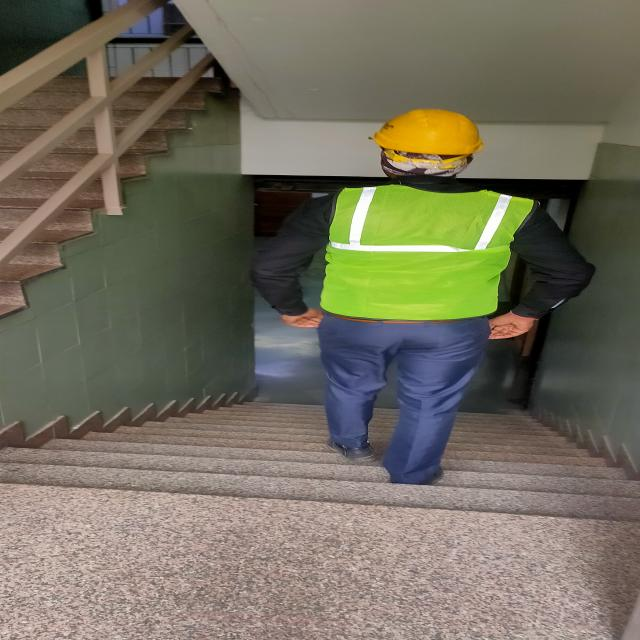safe: (259, 109, 557, 483)
